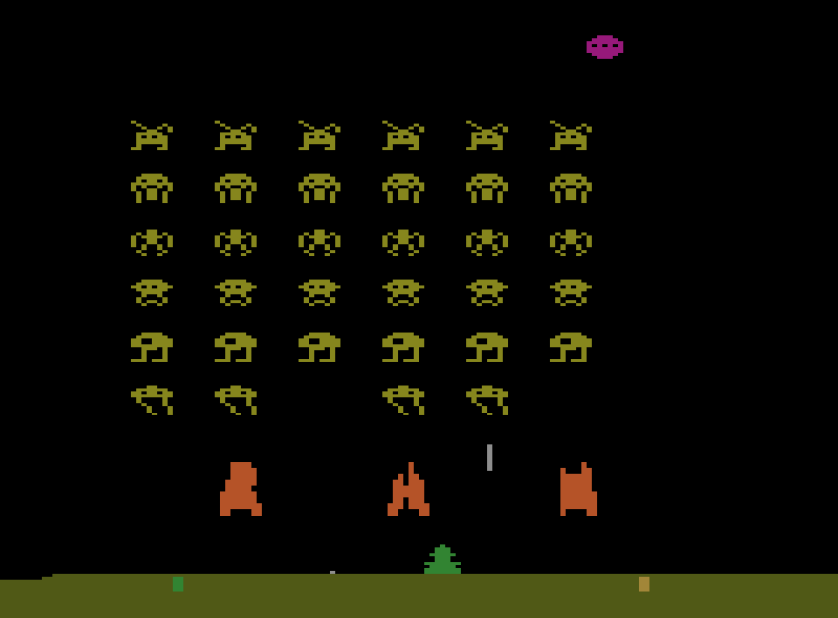bonus: (584, 34, 625, 61)
bullet: (485, 443, 493, 473)
invader1: (129, 117, 175, 152), (295, 118, 342, 152), (380, 117, 425, 152), (212, 119, 259, 152), (548, 119, 594, 152), (465, 119, 510, 152)
invader2: (381, 170, 426, 205), (548, 171, 593, 206), (298, 172, 343, 206), (464, 170, 509, 204), (213, 171, 259, 204), (129, 172, 174, 204)
invader3: (296, 227, 343, 259), (211, 227, 258, 258), (130, 227, 175, 259), (548, 226, 593, 258), (463, 229, 510, 259), (379, 229, 425, 257)
invader4: (296, 277, 343, 308), (465, 276, 510, 308), (548, 276, 593, 308), (129, 277, 175, 308), (213, 277, 259, 307), (380, 277, 425, 307)
invader5: (212, 329, 258, 365), (297, 329, 342, 365), (548, 329, 594, 364), (379, 330, 426, 364), (129, 331, 175, 365), (464, 331, 510, 364)
invader6: (212, 383, 260, 417), (380, 382, 425, 416), (466, 383, 511, 417), (129, 384, 175, 417)
player: (423, 542, 462, 575)
